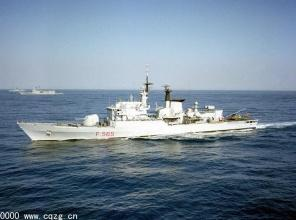warship: (20, 73, 262, 141)
